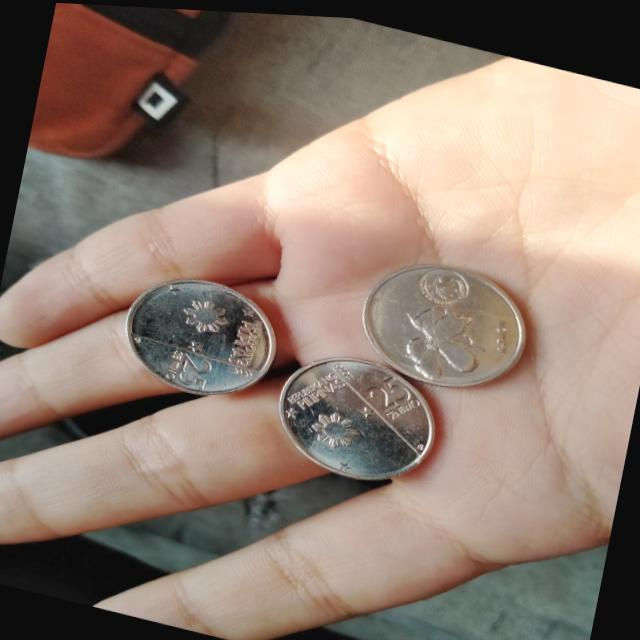25Cent_New_Back: (394, 291, 496, 380)
25Cent_New_Front: (364, 374, 429, 430), (171, 347, 218, 394)
